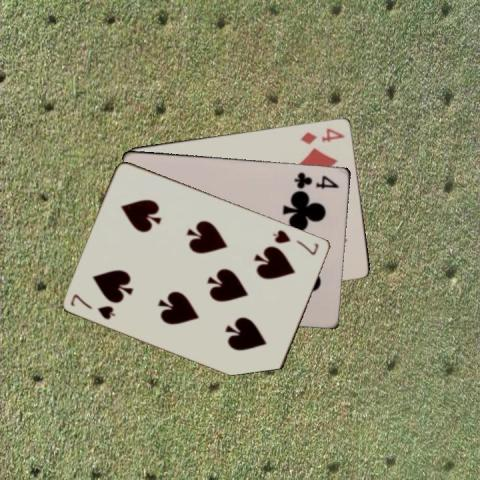4c: (291, 169, 340, 190)
4d: (297, 125, 346, 145)
7s: (270, 227, 321, 256), (68, 290, 117, 320)
